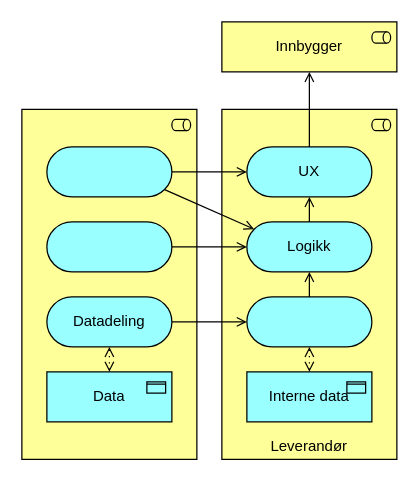
Image size: 419x481. Some labels were removed from this diagram. The box of each missing label's shape, as (x1, y1, x2, y2) in pixels:
Felles-komponenter: (46, 146, 172, 197)
Helsenorge økosystem: (21, 108, 197, 459)
Innlogging: (46, 221, 172, 272)
Integrasjonslag: (246, 296, 372, 347)
